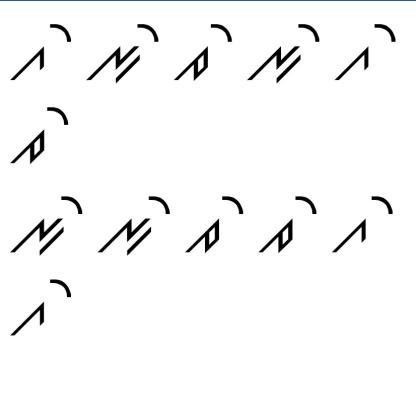gay: (331, 185, 395, 264), (333, 15, 400, 86), (8, 19, 74, 88), (6, 274, 73, 340)
ngay: (244, 19, 320, 89), (83, 20, 160, 89), (11, 192, 84, 260), (98, 191, 172, 258)
tay: (255, 188, 319, 262), (181, 192, 247, 262), (172, 17, 233, 88), (8, 100, 69, 169)
